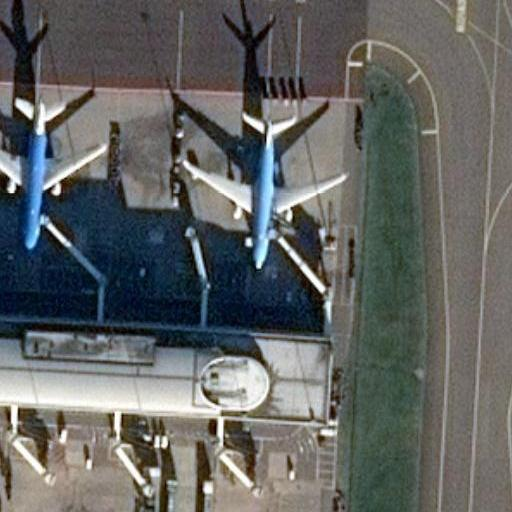Aircraft: (177, 104, 348, 268), (0, 89, 106, 247)
